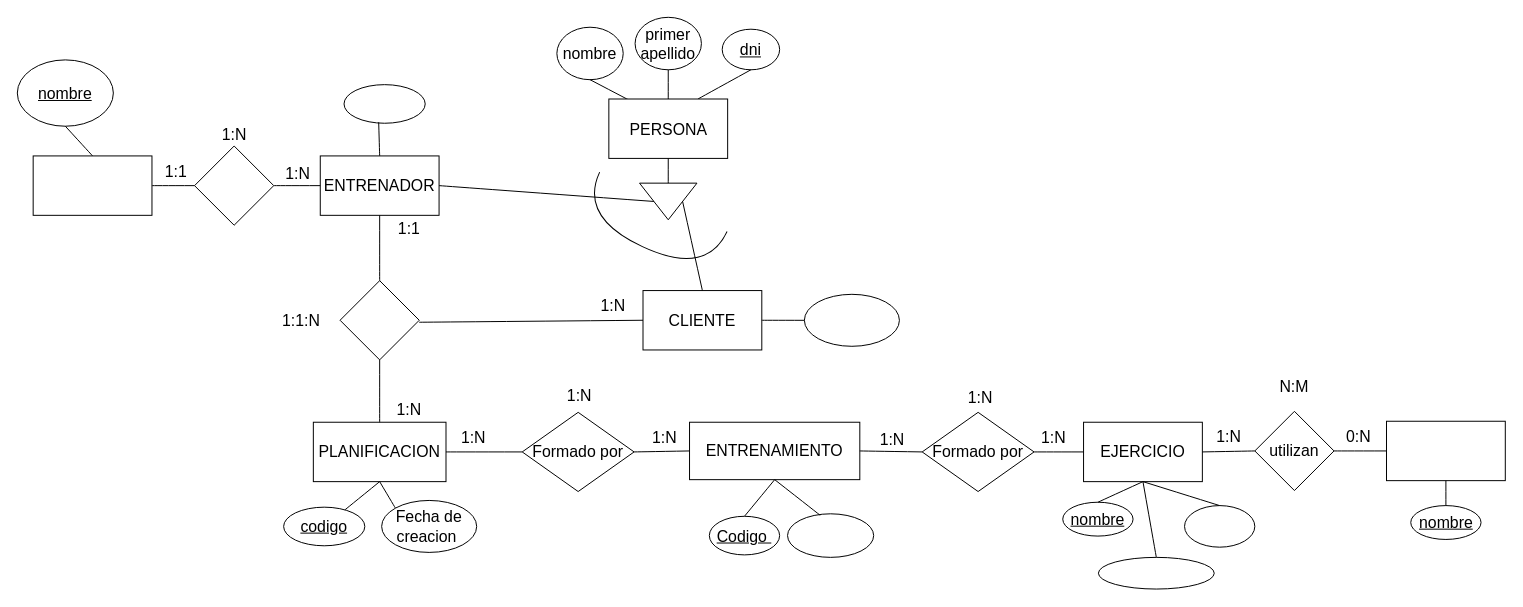
The diagram is 1523 pixels wide and 607 high, and some of its shapes have lost their labels. Here are the shapes that lost their labels. From the top down, the centre of each, then its label:
the point at 384,103: salario
the point at 92,185: GIMNASIO
the point at 234,185: trabajan
the point at 379,320: planifica
the point at 851,319: Fecha de alta
the point at 1445,450: MATERIAL
the point at 830,535: fecha de creación
the point at 1219,526: nº series
the point at 1155,572: nº repeticiones
